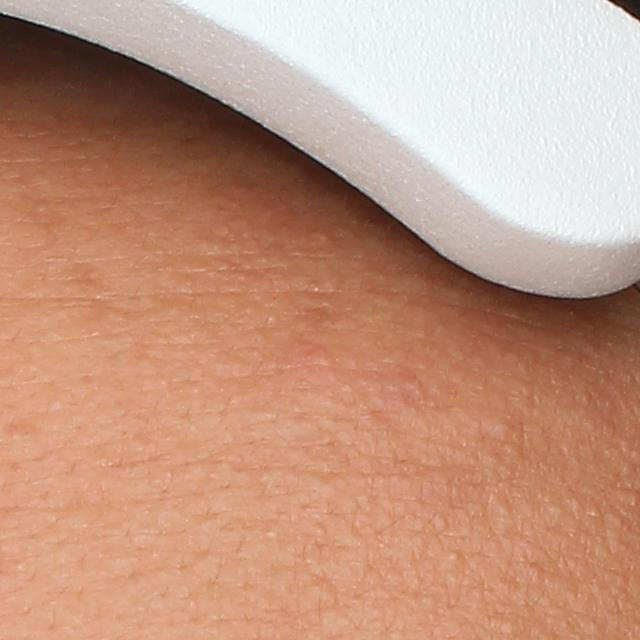comedo: (480, 411, 518, 443)
